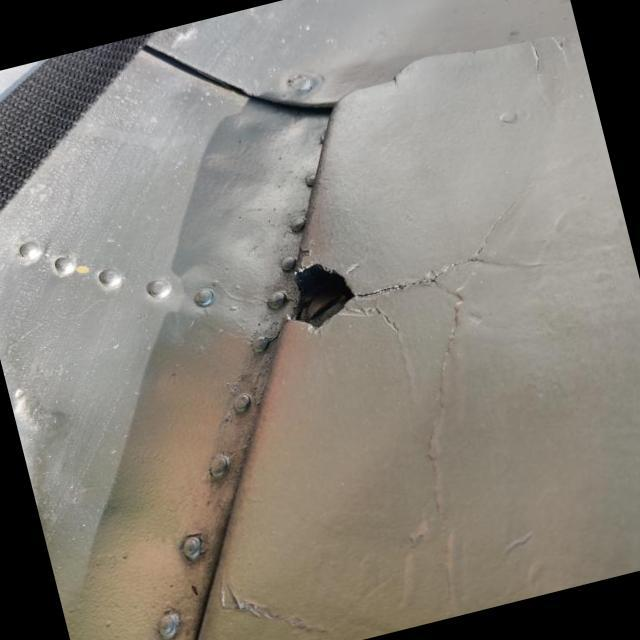Rupture: (235, 182, 572, 371)
